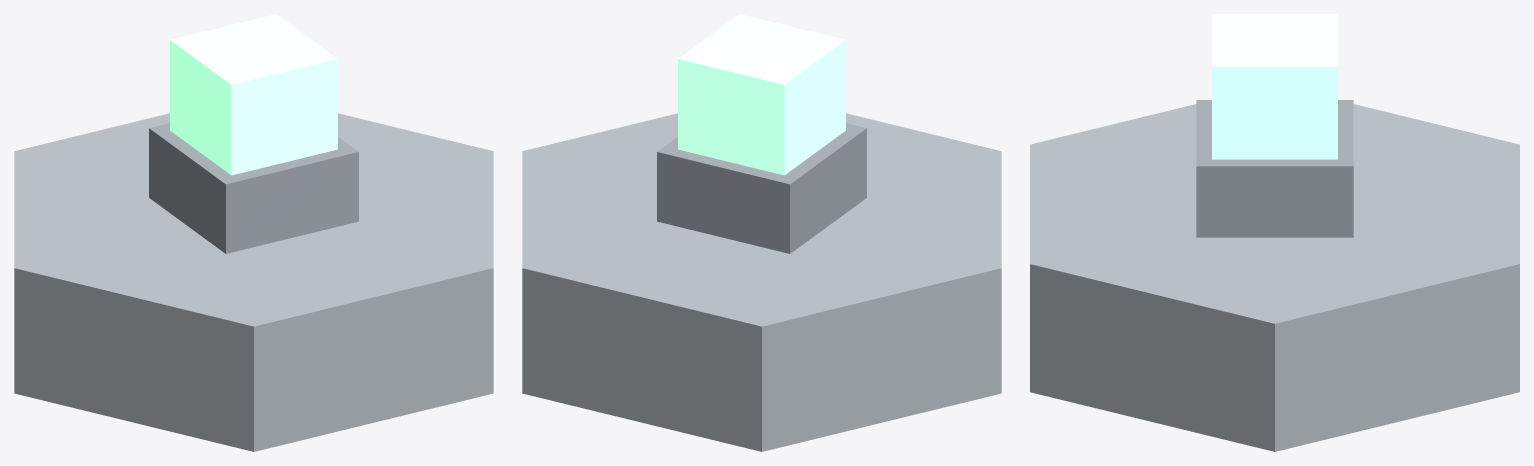
The model's file is mender.glb.
3 renders of one model, left to right at view 1: azimuth 30°, elevation 25°; view 2: azimuth 150°, elevation 25°; view 3: azimuth 270°, elevation 25°, orthographic. The views are drawn at different scales.
Bounding box in the file's own units: 0.72 × 0.41 × 0.6235.
